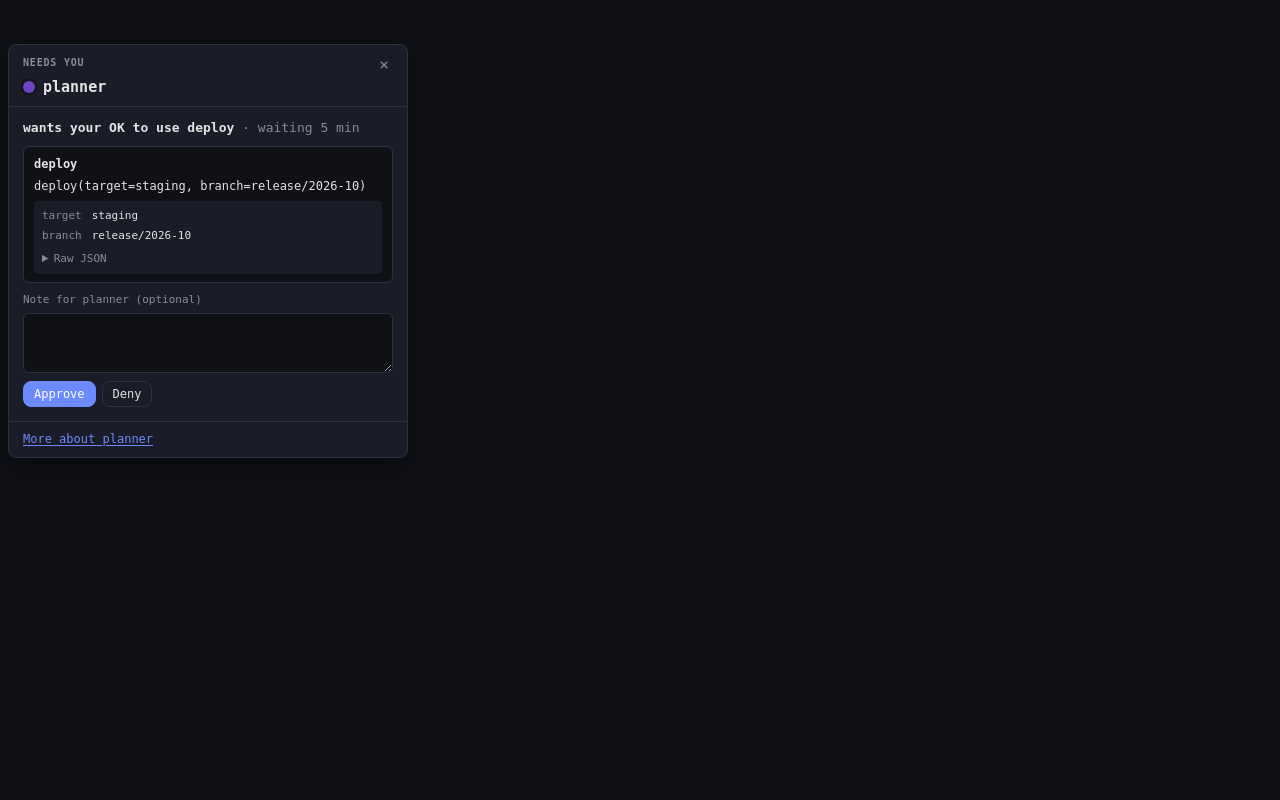
Test: an approval, in the world › denies, and says so
Click the button "Deny": (127, 394) x1=102 y1=380 x2=152 y2=406
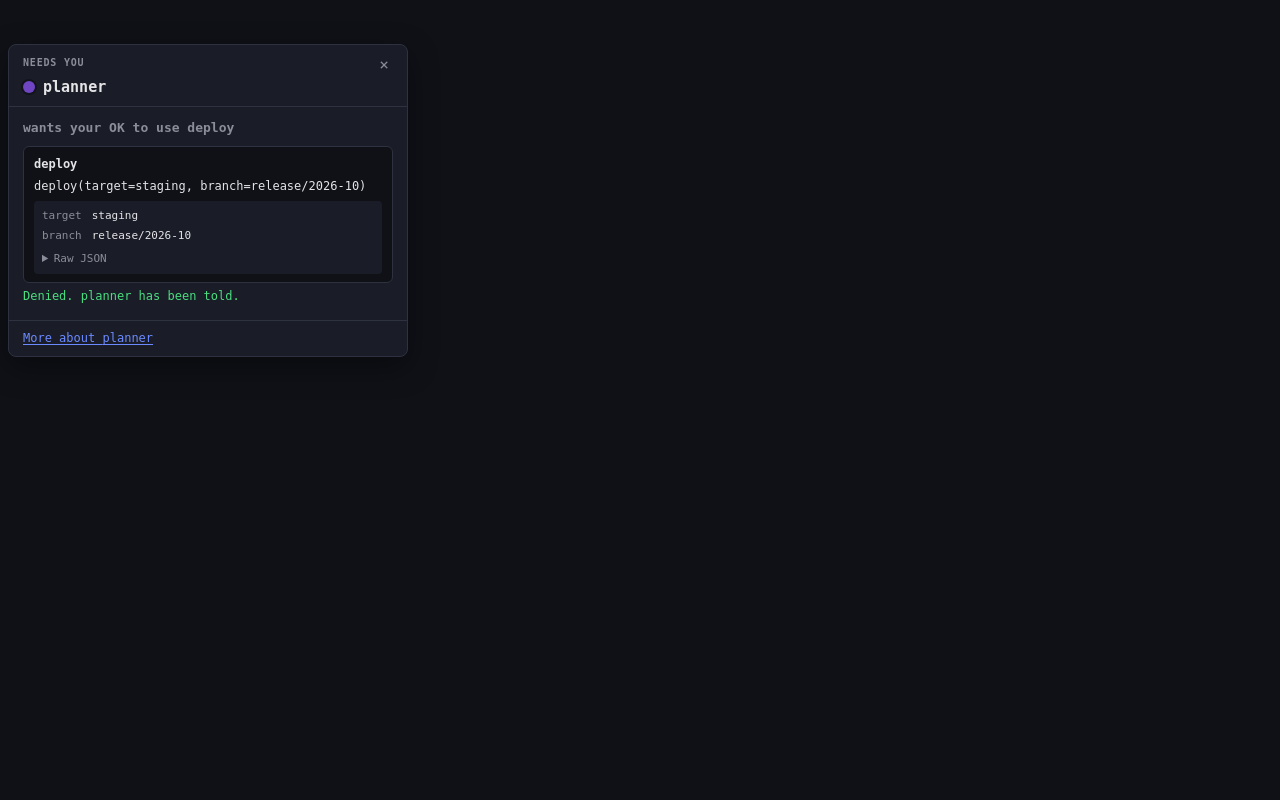
Result: the text "Denied. planner has been told." is shown at x1=23 y1=289 x2=240 y2=303
